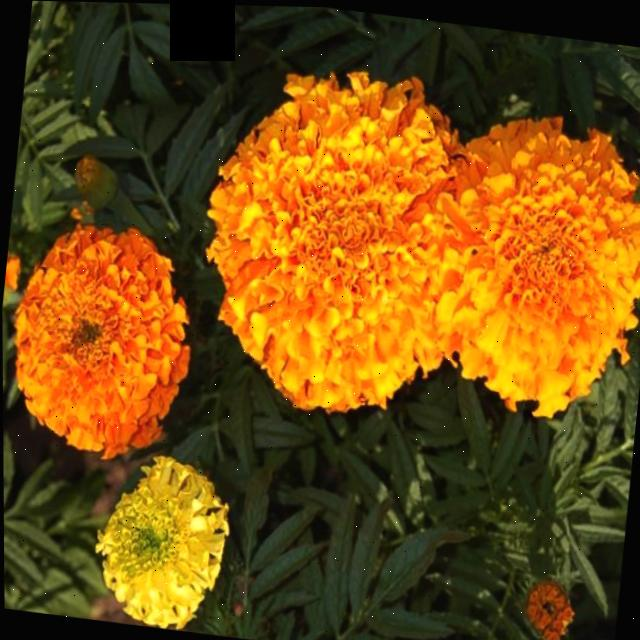marigold: (0, 26, 640, 640)
